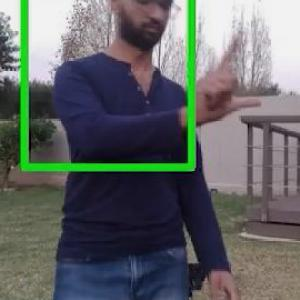land_hand: (181, 32, 276, 122)
